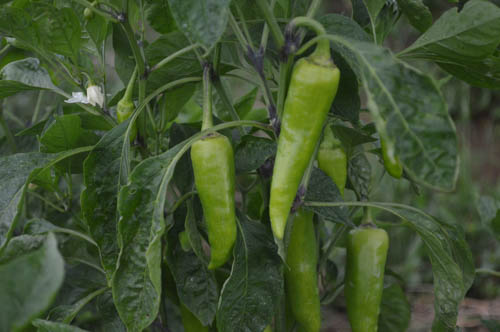ChiliPepper: (265, 54, 342, 236), (190, 134, 241, 270), (278, 204, 329, 332), (340, 224, 392, 332), (318, 138, 347, 198), (377, 128, 405, 181)
